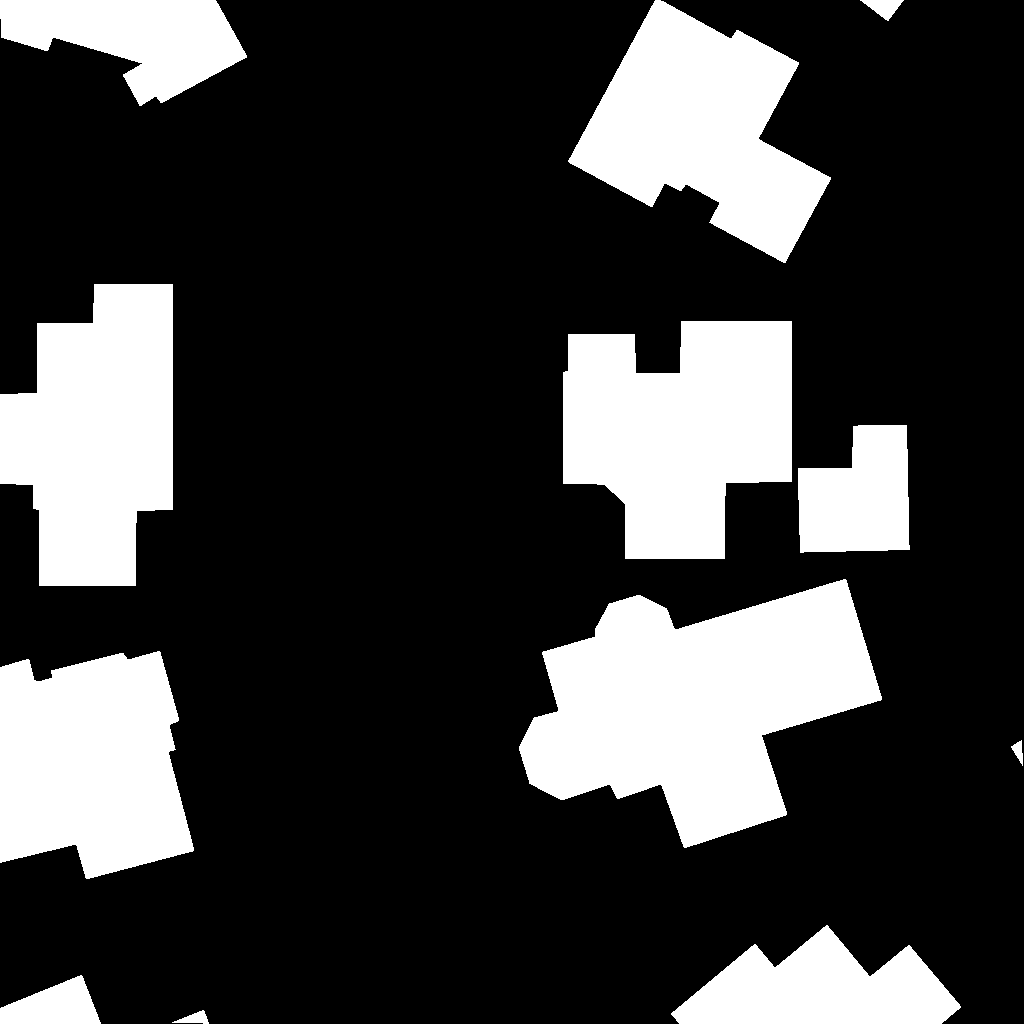building: (519, 579, 883, 849), (568, 0, 832, 264), (563, 321, 792, 559), (0, 284, 173, 586), (0, 651, 195, 880), (671, 925, 962, 1024), (0, 0, 248, 107), (798, 425, 910, 553), (0, 975, 210, 1024), (860, 0, 905, 22), (1011, 740, 1024, 767)
